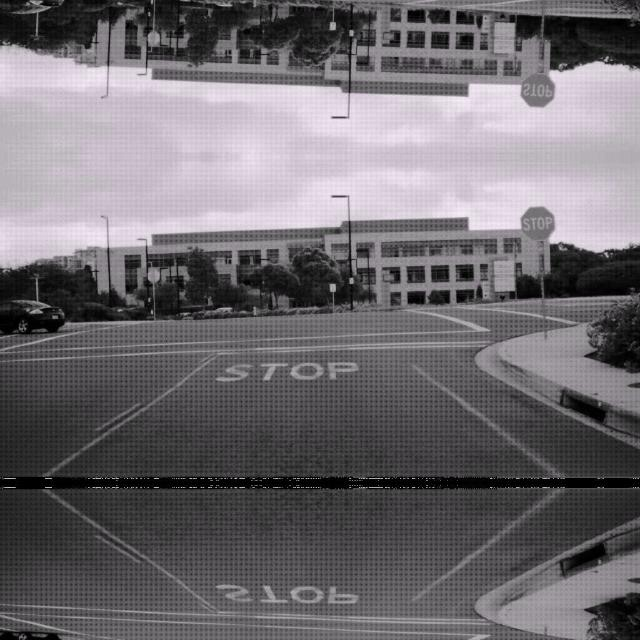stop: (519, 203, 555, 239), (519, 73, 555, 109)
